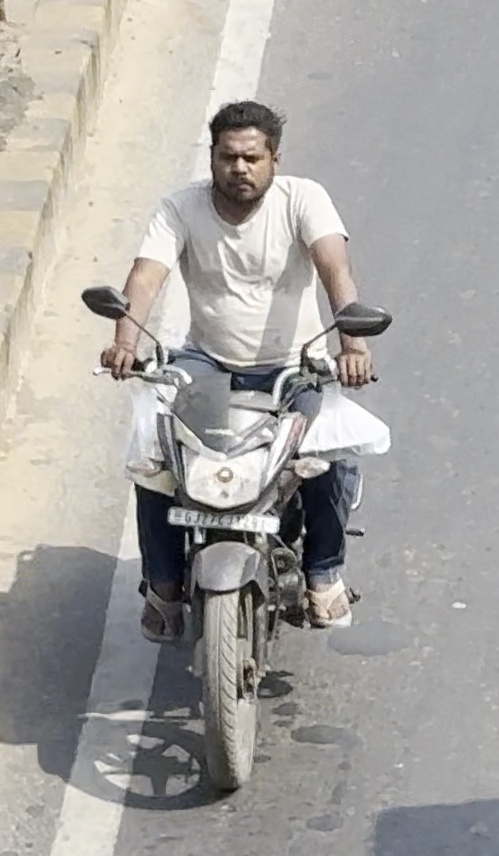BikeWithRider: (75, 92, 402, 797)
NoHelmet: (202, 95, 285, 210)
